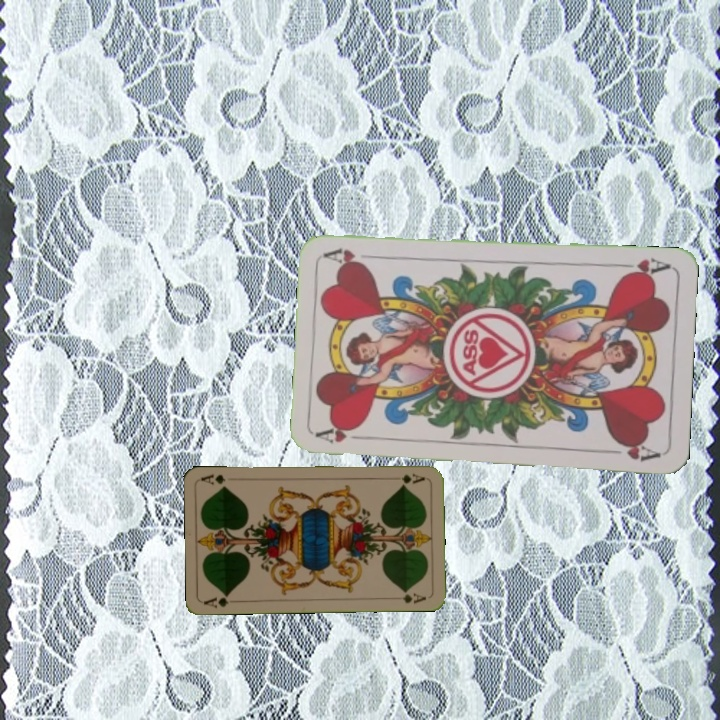GA: (201, 590, 241, 610), (387, 469, 428, 486)
HA: (613, 253, 672, 280), (314, 424, 373, 447)
